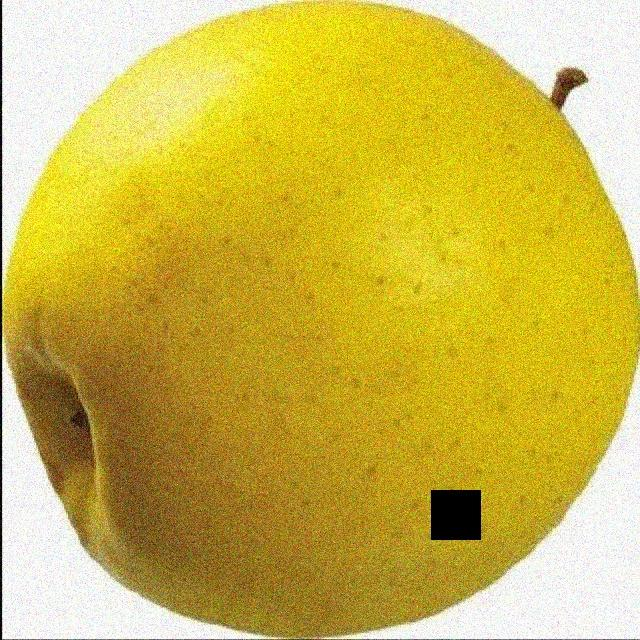green apple: (2, 3, 631, 639)
